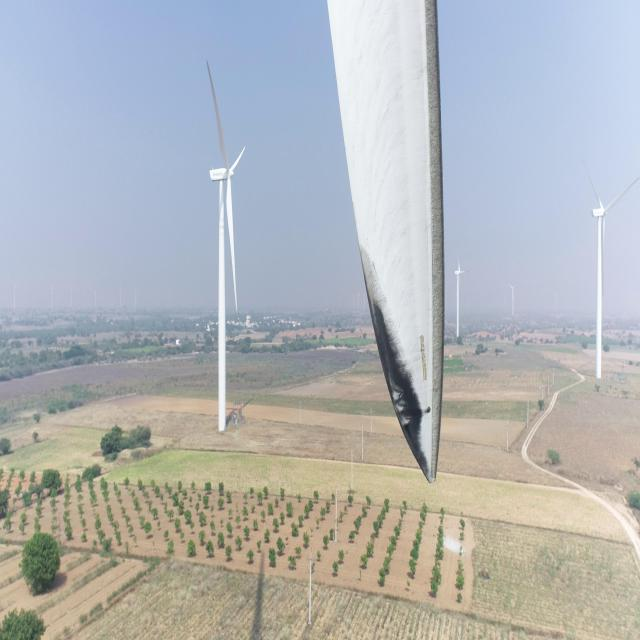Dirt: (325, 3, 445, 480)
Oil LEAKAGE: (368, 296, 430, 480)
Pin Hole: (423, 402, 433, 418)
